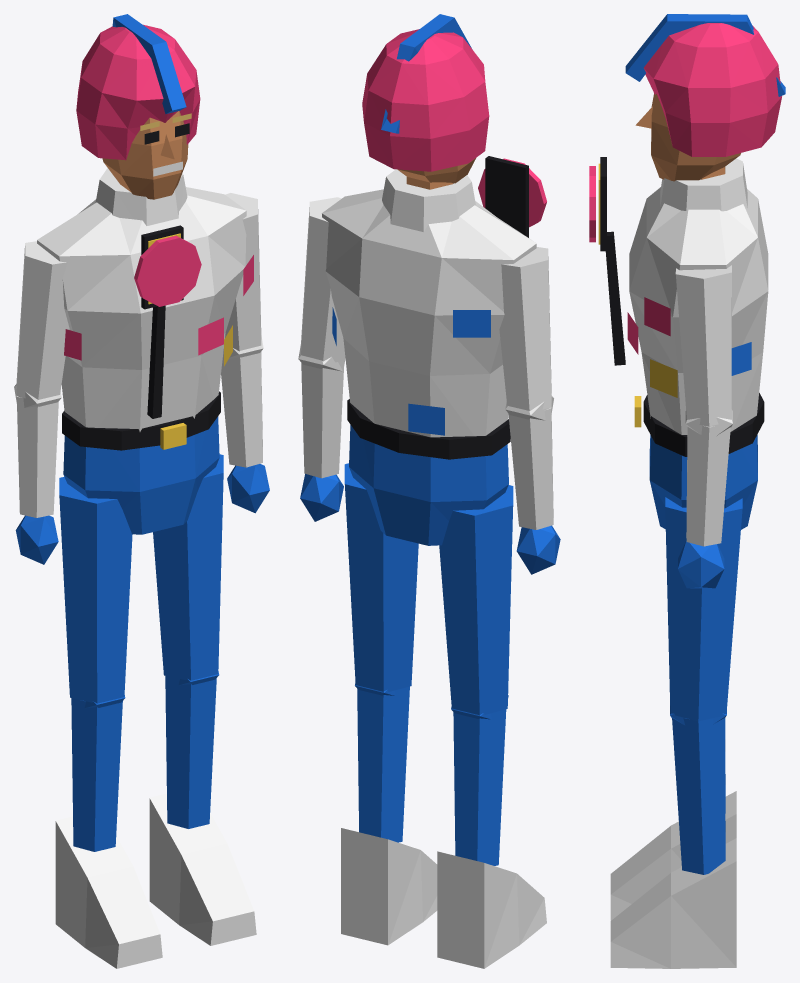
Rendered from chad-speedwell.glb.
The picture shows the model from 3 angles, left to right: view 1: azimuth 30°, elevation 25°; view 2: azimuth 150°, elevation 25°; view 3: azimuth 270°, elevation 25°; orthographic projection. The views are drawn at different scales.
Visible parts, largest first — view 1: chest_mesh, shin_r_mesh, shin_l_mesh, head_mesh, thigh_r_mesh, hips_mesh, thigh_l_mesh, upper_arm_r_mesh, forearm_r_mesh, forearm_l_mesh, prop_mesh, upper_arm_l_mesh (+3 smaller); view 2: chest_mesh, shin_r_mesh, shin_l_mesh, head_mesh, hips_mesh, thigh_r_mesh, thigh_l_mesh, upper_arm_r_mesh, forearm_r_mesh, forearm_l_mesh, upper_arm_l_mesh, prop_mesh (+2 smaller); view 3: chest_mesh, shin_l_mesh, head_mesh, thigh_l_mesh, upper_arm_l_mesh, forearm_l_mesh, hips_mesh, shin_r_mesh, prop_mesh, head_detail, chest_detail.
Part boxes in pixels (x1=…): chest_mesh: x1=37, y1=168, x2=246, y2=431; shin_r_mesh: x1=55, y1=698, x2=162, y2=968; shin_l_mesh: x1=149, y1=676, x2=256, y2=945; head_mesh: x1=76, y1=24, x2=200, y2=199; thigh_r_mesh: x1=59, y1=477, x2=132, y2=708; hips_mesh: x1=62, y1=391, x2=220, y2=534; thigh_l_mesh: x1=153, y1=454, x2=223, y2=685; upper_arm_r_mesh: x1=14, y1=241, x2=69, y2=407; forearm_r_mesh: x1=15, y1=396, x2=58, y2=564; forearm_l_mesh: x1=221, y1=351, x2=269, y2=513; prop_mesh: x1=134, y1=225, x2=201, y2=418; upper_arm_l_mesh: x1=223, y1=193, x2=263, y2=359; chest_mesh: x1=322, y1=169, x2=536, y2=437; shin_r_mesh: x1=437, y1=709, x2=546, y2=968; shin_l_mesh: x1=341, y1=686, x2=437, y2=945; head_mesh: x1=362, y1=29, x2=489, y2=189; hips_mesh: x1=347, y1=399, x2=510, y2=545; thigh_r_mesh: x1=439, y1=485, x2=513, y2=719; thigh_l_mesh: x1=344, y1=463, x2=418, y2=695; upper_arm_r_mesh: x1=499, y1=247, x2=553, y2=420; forearm_r_mesh: x1=508, y1=407, x2=560, y2=574; forearm_l_mesh: x1=300, y1=361, x2=344, y2=521; upper_arm_l_mesh: x1=298, y1=197, x2=345, y2=371; prop_mesh: x1=478, y1=156, x2=546, y2=237; chest_mesh: x1=629, y1=158, x2=768, y2=434; shin_l_mesh: x1=610, y1=718, x2=736, y2=968; head_mesh: x1=644, y1=23, x2=781, y2=181; thigh_l_mesh: x1=665, y1=497, x2=742, y2=724; upper_arm_l_mesh: x1=675, y1=265, x2=732, y2=436; forearm_l_mesh: x1=678, y1=425, x2=730, y2=588; hips_mesh: x1=643, y1=393, x2=764, y2=529; shin_r_mesh: x1=610, y1=718, x2=736, y2=920; prop_mesh: x1=589, y1=157, x2=625, y2=365; head_detail: x1=625, y1=14, x2=785, y2=128; chest_detail: x1=627, y1=297, x2=751, y2=397.
Size of the model in its own units: 0.5321 by 1.84 by 0.3581.
